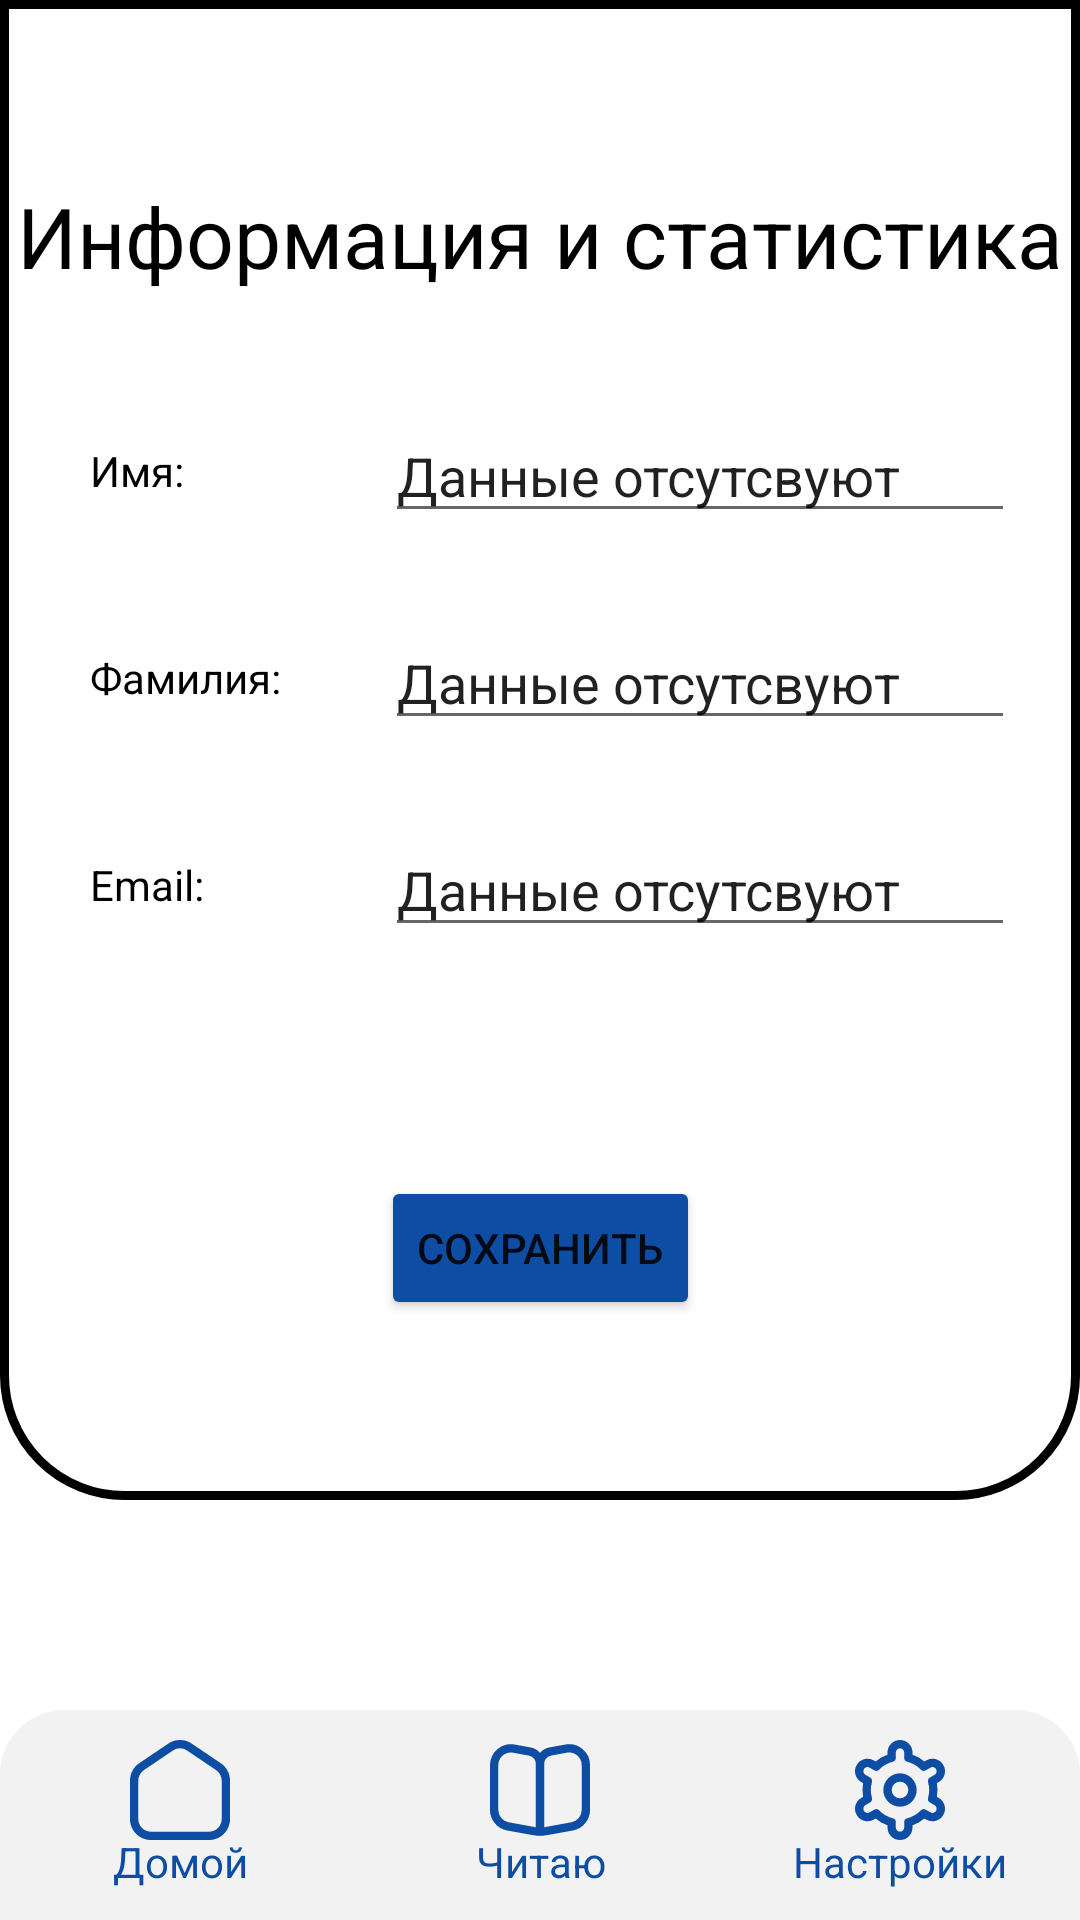

Where to tap for icons on this 1080 x 1920 app screen, as (x=x, y=y):
book: (x=540, y=1790)
